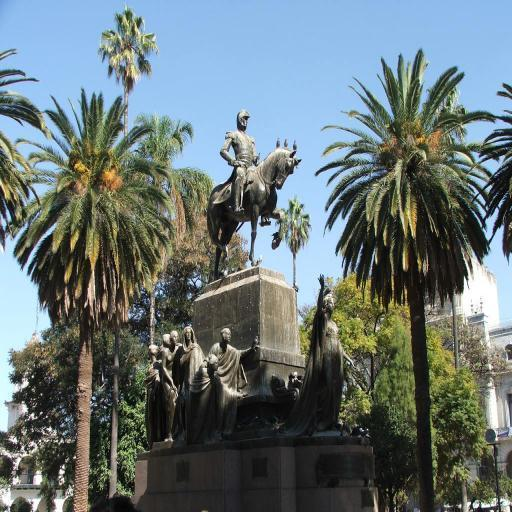horse: (205, 146, 303, 282)
